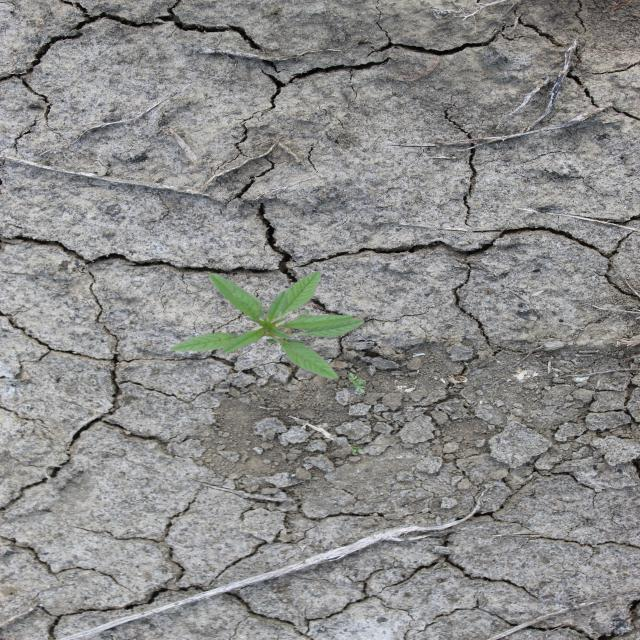Waterhemp: (168, 270, 366, 381)
